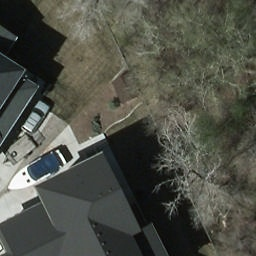boat: (2, 149, 68, 197)
car: (19, 101, 52, 137)
